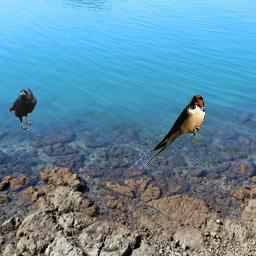Crow: (3, 86, 37, 133)
Swallow: (135, 95, 205, 169)
